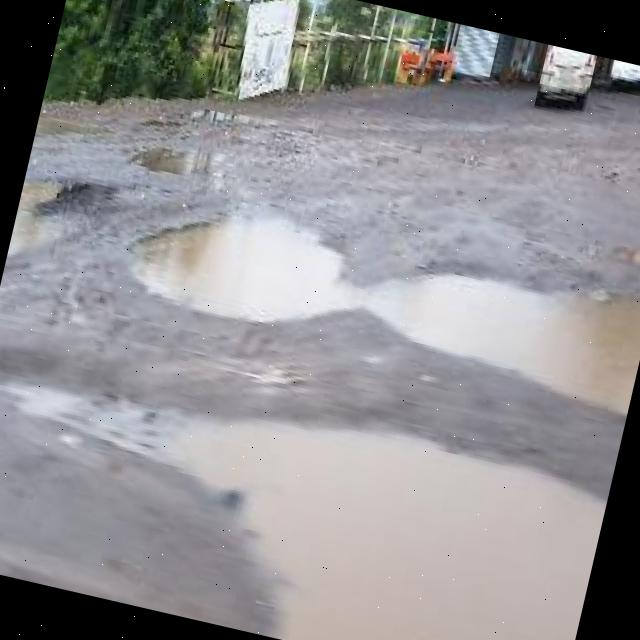stagnation: (49, 322, 620, 640), (146, 173, 640, 417)
